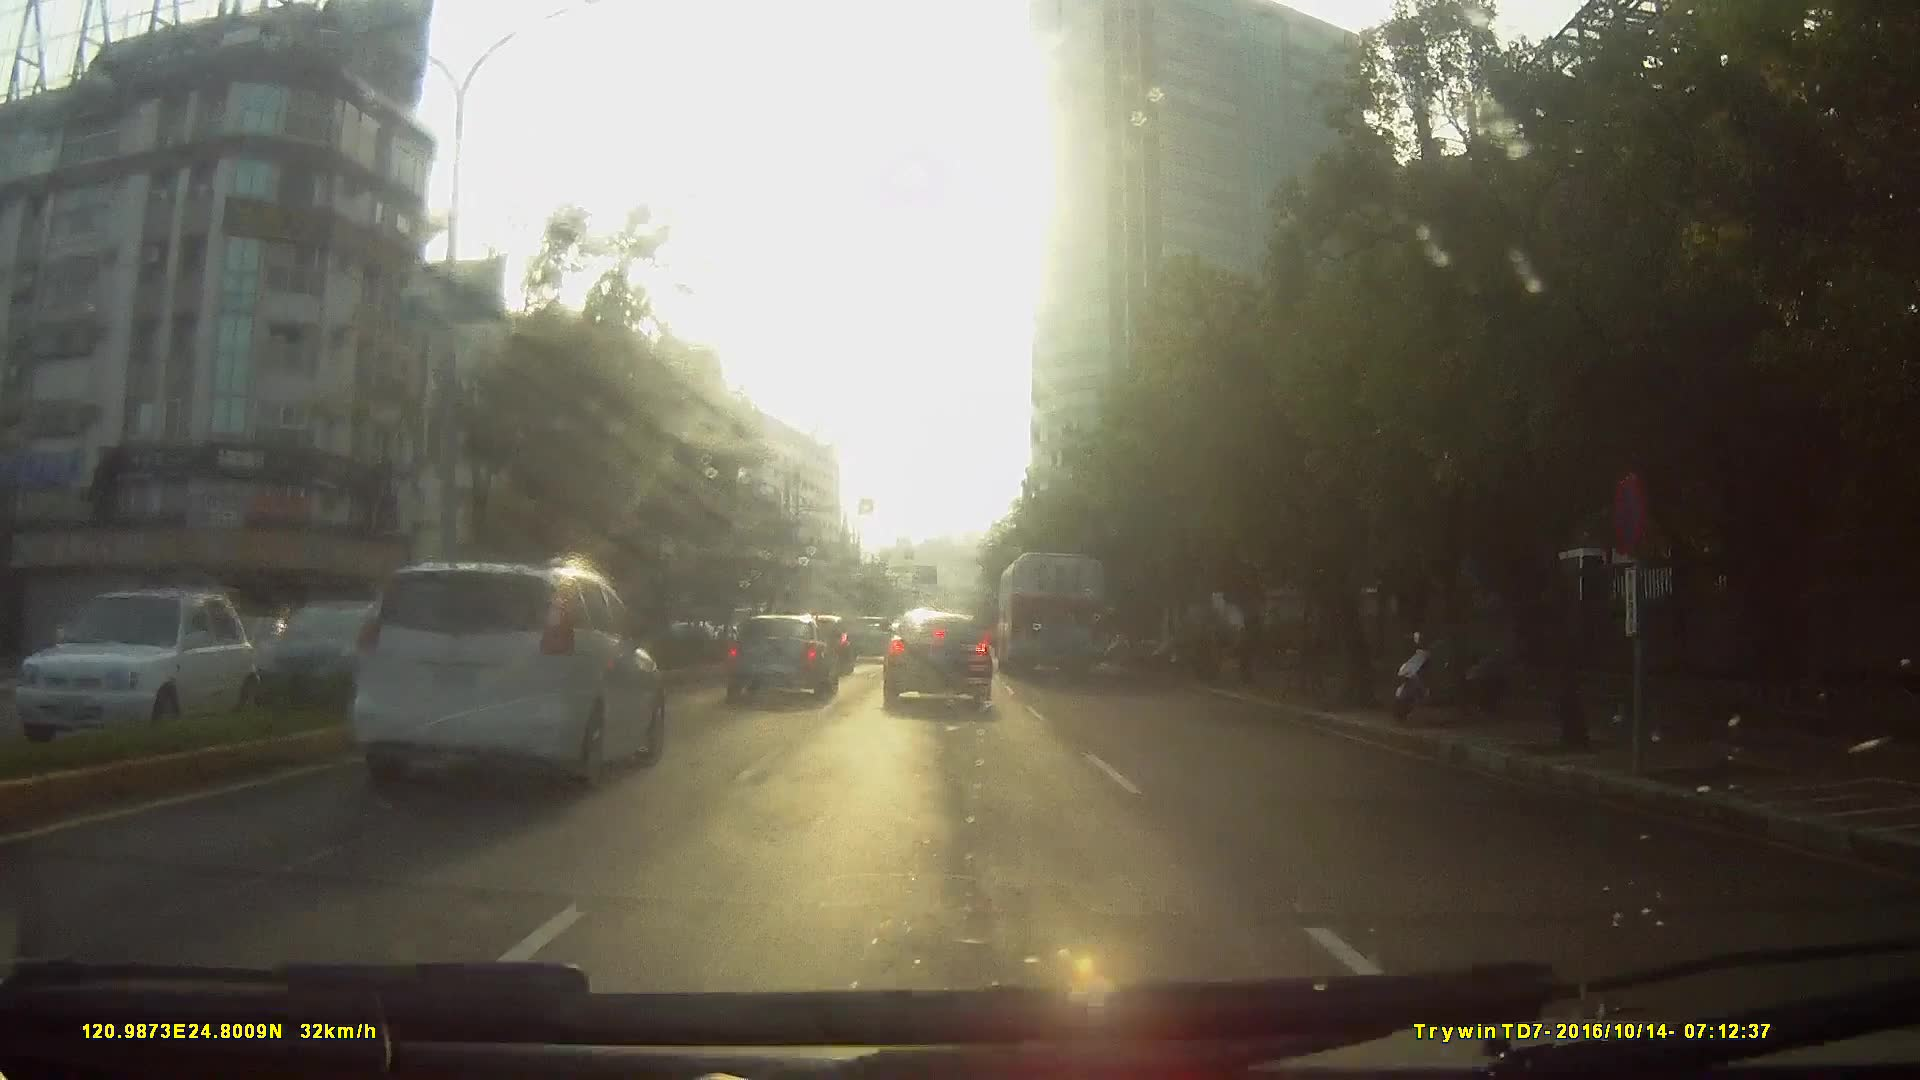vehicle: (251, 556, 684, 868), (342, 554, 663, 793), (12, 583, 262, 766), (245, 600, 411, 709), (997, 549, 1106, 680), (880, 607, 994, 709), (719, 611, 837, 702), (847, 615, 893, 663)
